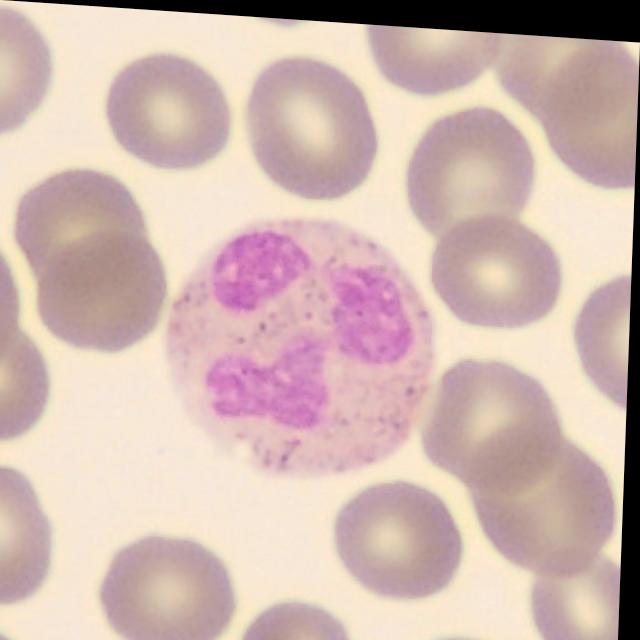Neutrofilo segmentado: (162, 212, 444, 474)
